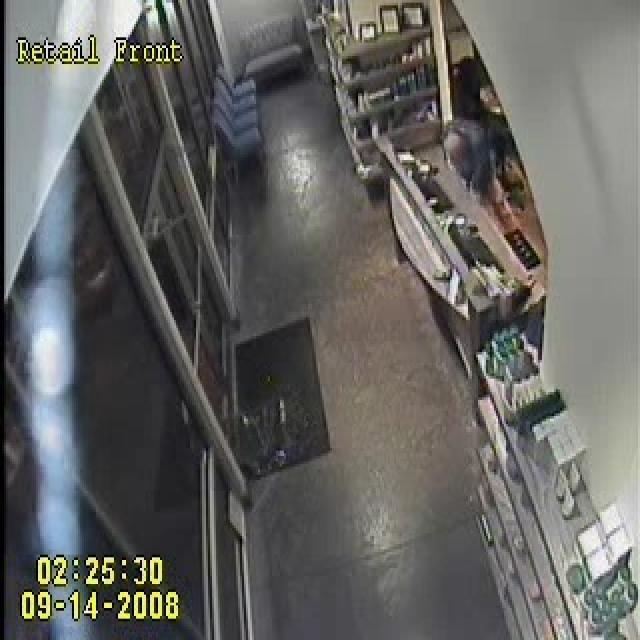thief: (430, 107, 505, 218)
